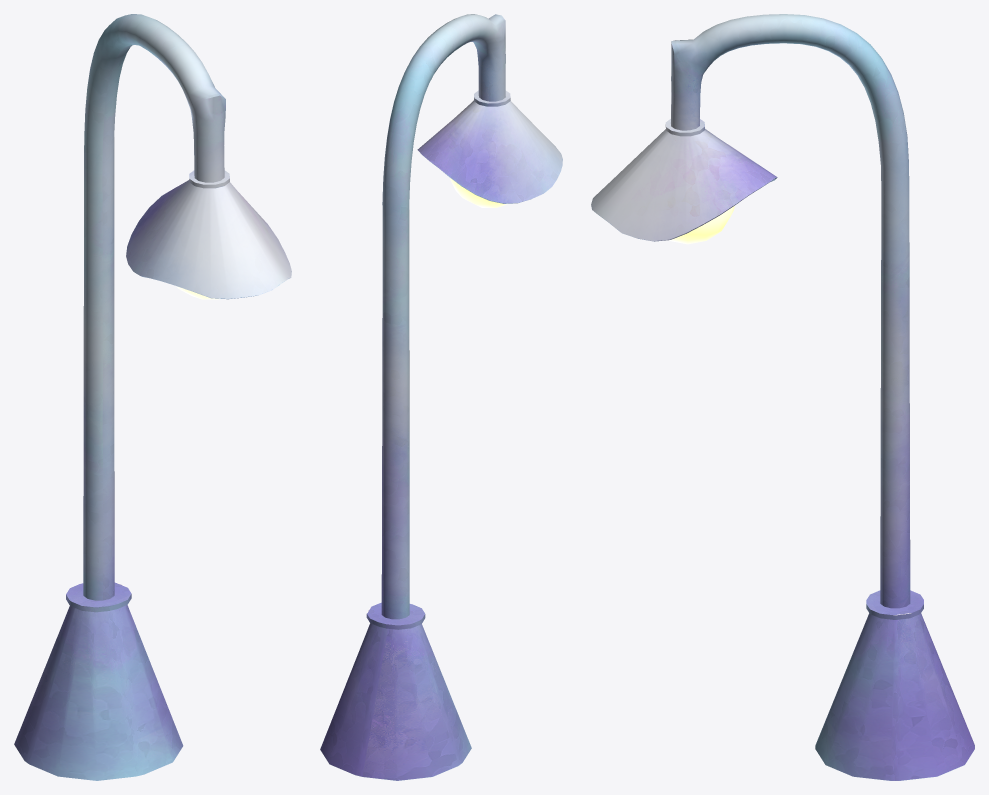
Rendered from SM_PRP_StreetLamp.fbx.
3 views of the same model, side by side, from view 1: azimuth 30°, elevation 25°; view 2: azimuth 150°, elevation 25°; view 3: azimuth 270°, elevation 25° (orthographic). The views are drawn at different scales.
Visible parts, largest first — view 1: m_StreetLamp_low; view 2: m_StreetLamp_low; view 3: m_StreetLamp_low.
Part boxes in pixels (<box>): m_StreetLamp_low: <box>14,14,291,780</box>; m_StreetLamp_low: <box>320,14,562,780</box>; m_StreetLamp_low: <box>591,14,974,780</box>.
Size of the model in its own units: 66.97 by 339 by 161.
1 material, 1 textured.
